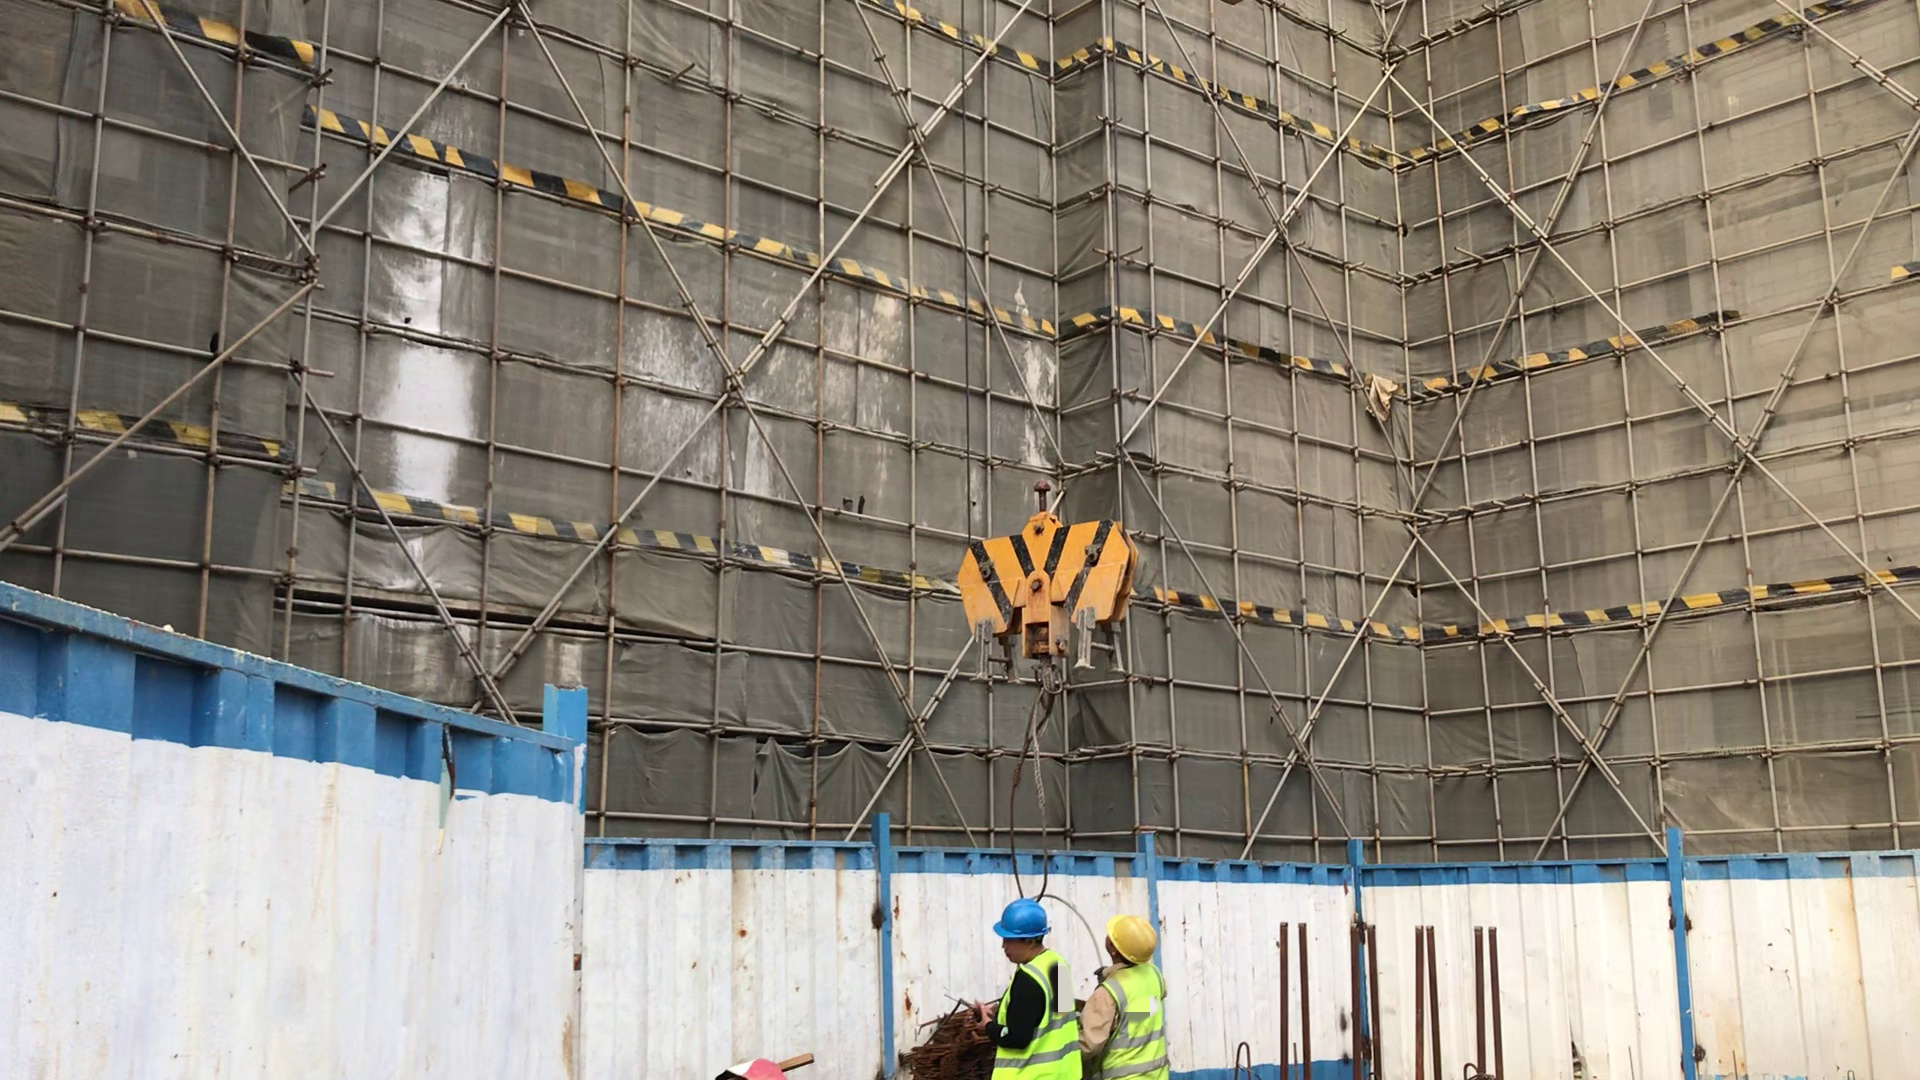helmet: (992, 901, 1054, 942), (1106, 917, 1158, 964)
hook: (941, 472, 1133, 705)
person: (967, 895, 1087, 1080), (1074, 913, 1169, 1080)
vest: (981, 958, 1087, 1080), (1097, 960, 1167, 1080)
